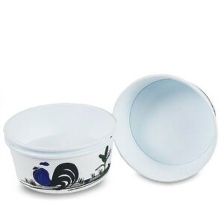paper_cup: (107, 67, 224, 188), (0, 98, 124, 199)
